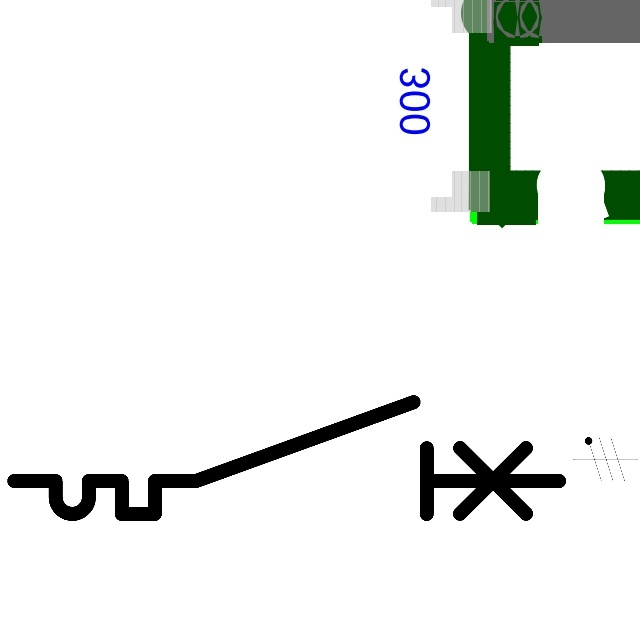interruptor_termomagnetico: (0, 388, 573, 528)
